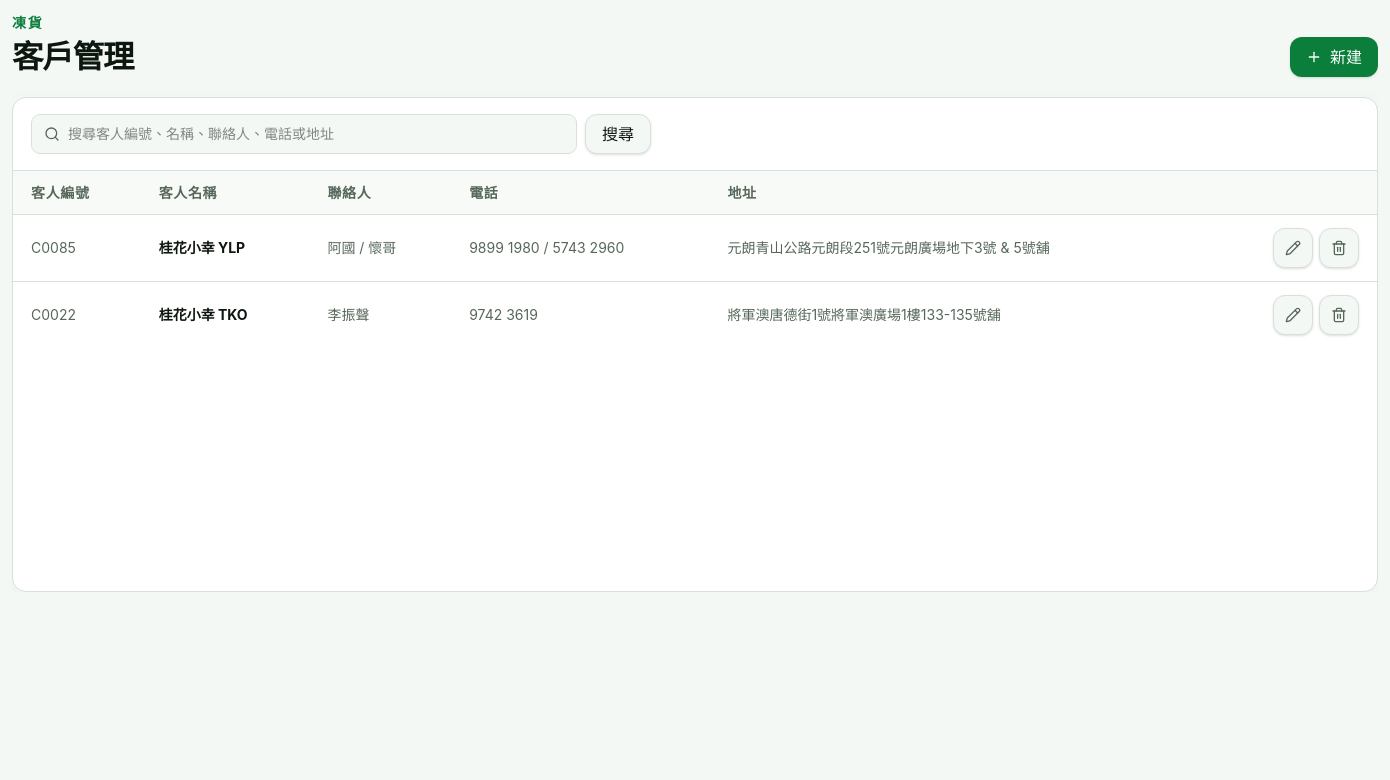
Test: Meat customers page › deletes a customer after confirmation
Expected: the text "桂花小幸 YLP" is shown, [159,239,245,256]
What coordinates should you click on to do the following:
click the button named "刪除" in the row of "C0085"
I would click on:
 (1339, 248)
Its box is [1319,228,1359,268].
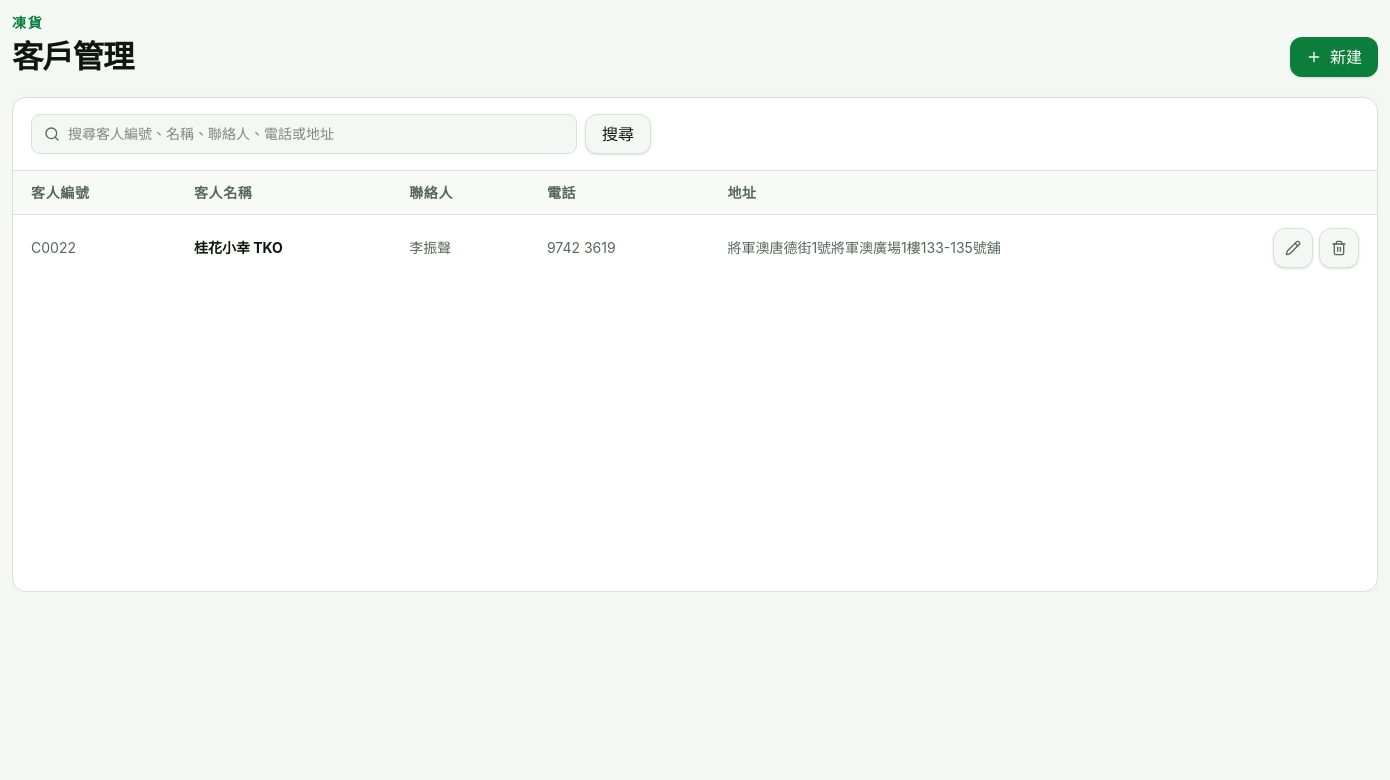
Expected: the text "桂花小幸 TKO" is shown, [194,239,283,256]
Expected: the text "桂花小幸 YLP" is gone
